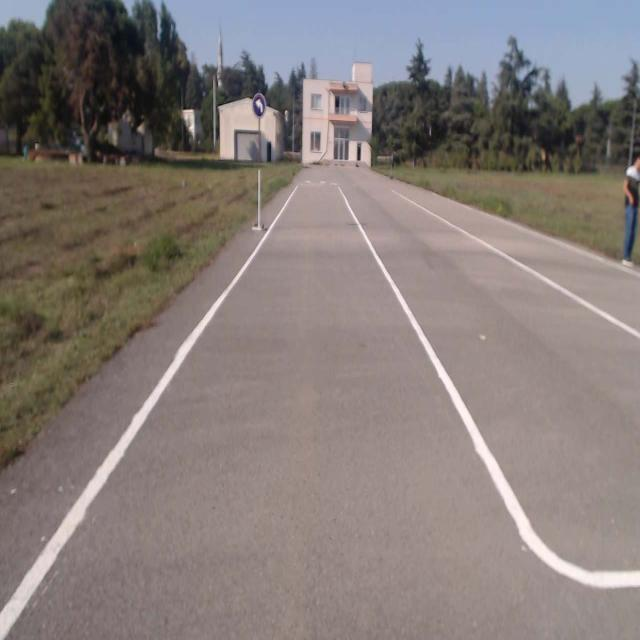sol: (252, 94, 266, 118)
